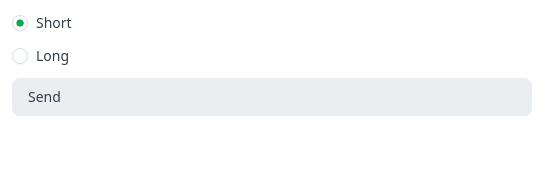
Scenario: A2uiSurface › single ChoicePicker binds one selection and is used in the summary
Later steps or results of the test are not shown.
Expected: the radio button named "Short" is checked, [12, 14, 28, 30]
Click the radio button named "Long" at (20,56), box [12, 48, 28, 64]
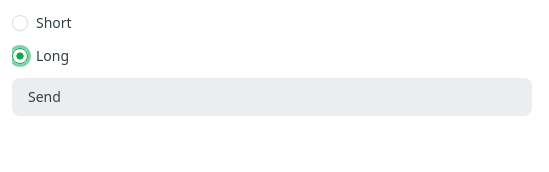
Expected: the radio button named "Long" is checked, [12, 48, 28, 64]
